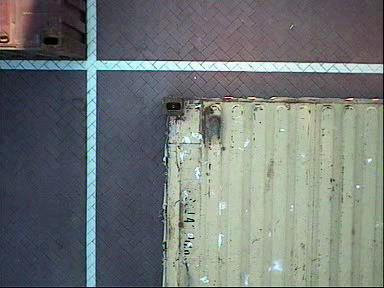groundmarker_2: (184, 154, 233, 217)
